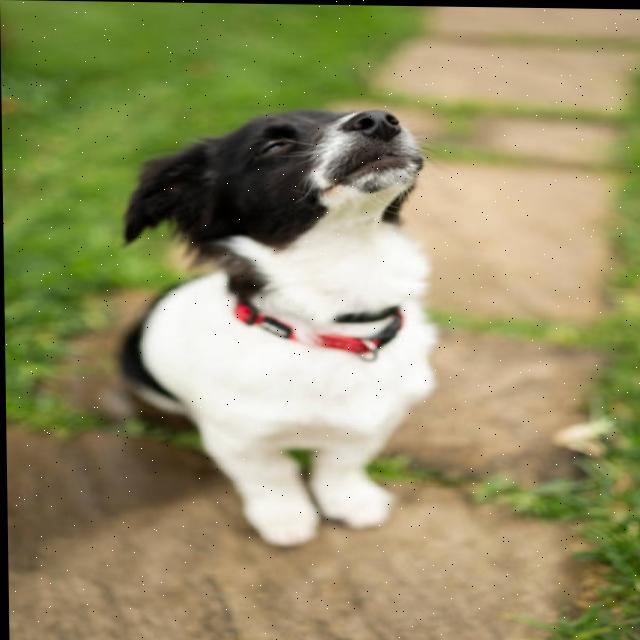BORDER_COLLIE: (72, 84, 470, 545)
